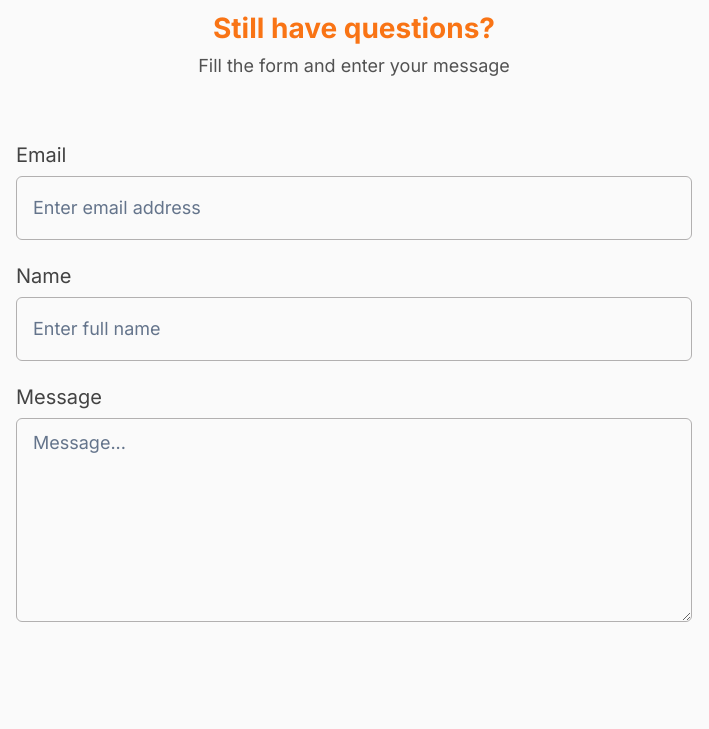
it: additionalQuestionsForm Tests › should display error message on failed form submission
The image size is (709, 729).
Type "John Doe" into the field labelled "Name" at (354, 329), box [16,297,692,361]
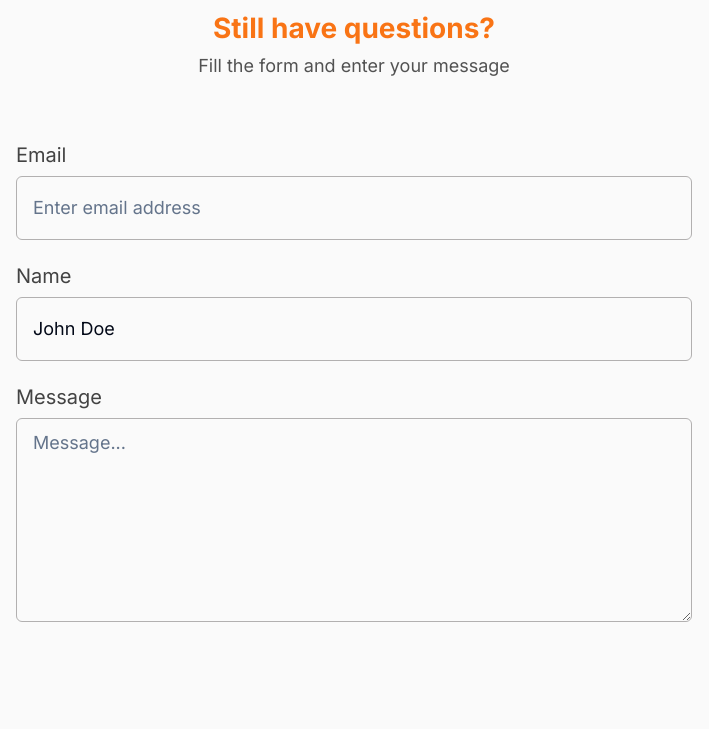
Type "john.doe@example.com" into the field labelled "Email" at (354, 208), box [16,176,692,240]
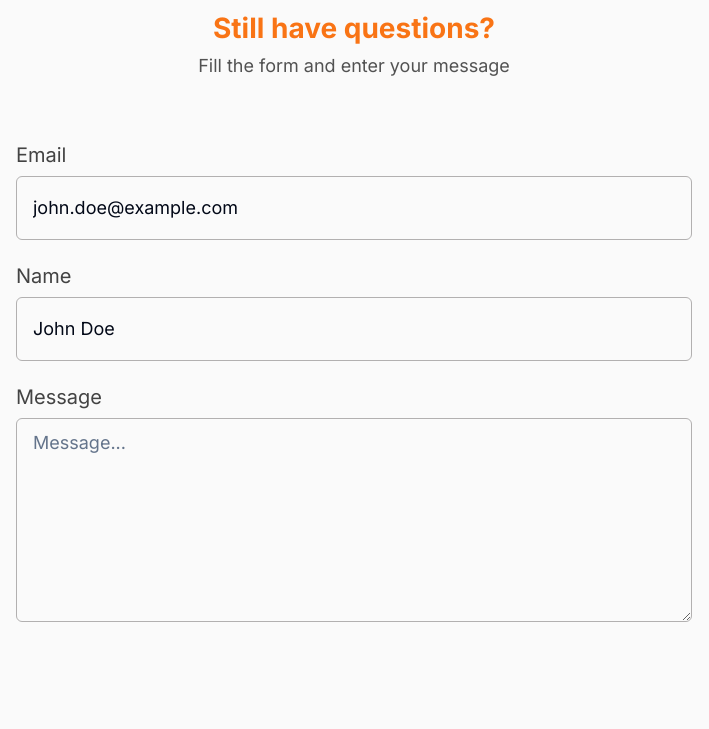
Type "This is a test message" into the text box labelled "Message" at (354, 520), box [16,418,692,622]
(page scrolled)
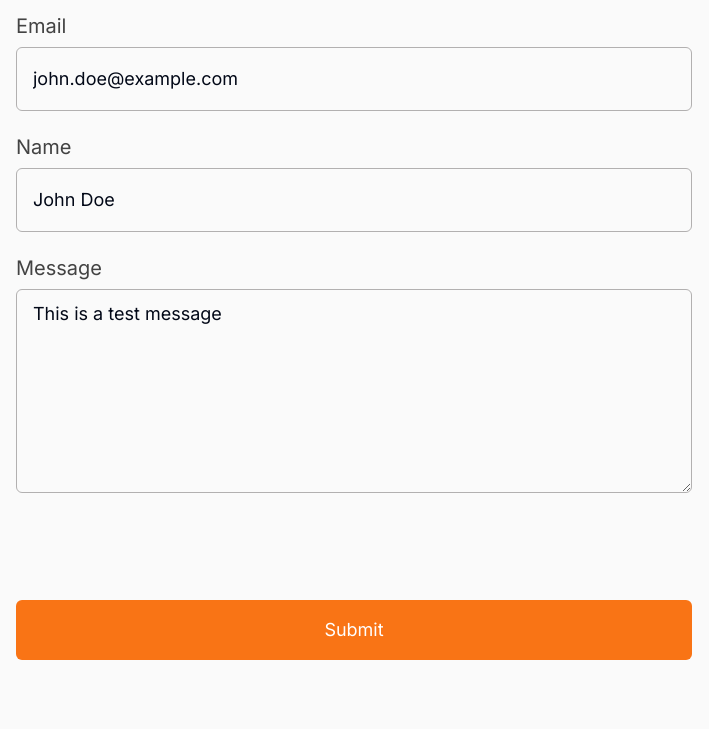
Click the button "Submit" at (354, 630), box [16,600,692,660]
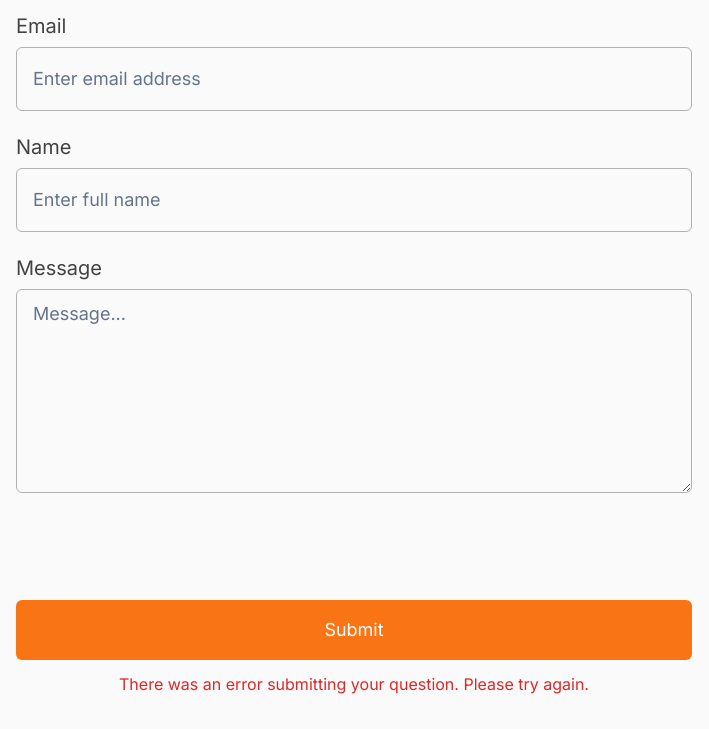
Now the text "There was an error submitting your question. Please try again." is shown, box [119,674,589,694]
